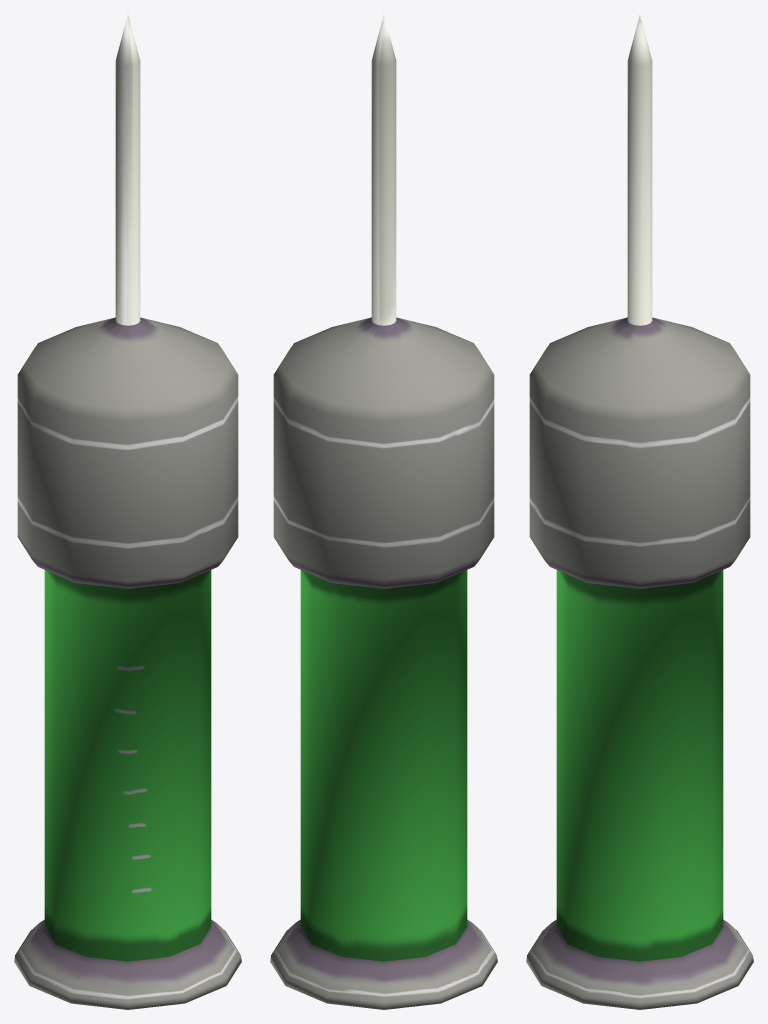
Rendered from Projectile_Hijau.fbx.
3 views of the same model, side by side, from view 1: azimuth 30°, elevation 25°; view 2: azimuth 150°, elevation 25°; view 3: azimuth 270°, elevation 25° (orthographic).
Visible parts, largest first — view 1: Cylinder; view 2: Cylinder; view 3: Cylinder.
Boxes of the visible parts, bbox=[...] form: Cylinder: bbox=[14, 15, 241, 1009]; Cylinder: bbox=[270, 15, 497, 1009]; Cylinder: bbox=[526, 15, 753, 1009].
Bounding box in the file's own units: 10.93 × 50.19 × 10.93.
1 material, 1 textured.
